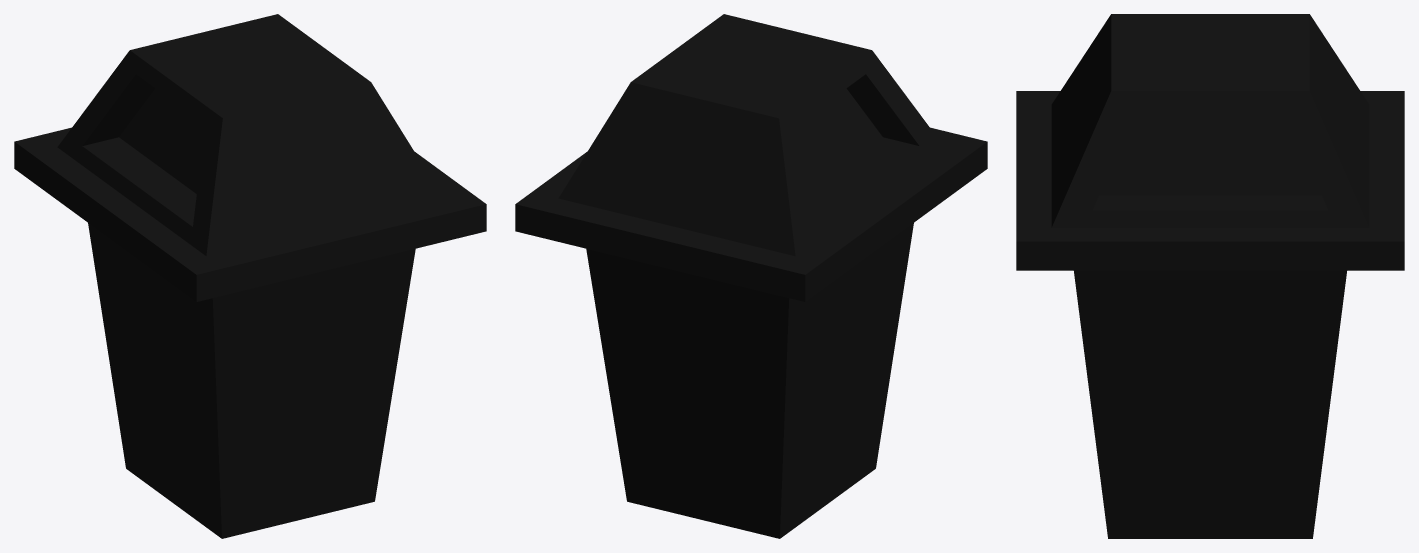
Rendered from BasementTrashCan.fbx.
3 renders of one model, left to right at view 1: azimuth 30°, elevation 25°; view 2: azimuth 150°, elevation 25°; view 3: azimuth 270°, elevation 25°, orthographic. The views are drawn at different scales.
Visible parts, largest first — view 1: BasementTrashCan; view 2: BasementTrashCan; view 3: BasementTrashCan.
Boxes of the visible parts, left/top/right/bottom form: BasementTrashCan: left=14, top=14, right=486, bottom=538; BasementTrashCan: left=515, top=14, right=987, bottom=538; BasementTrashCan: left=1016, top=14, right=1404, bottom=538.
Size of the model in its own units: 45.37 by 62.64 by 49.37.
